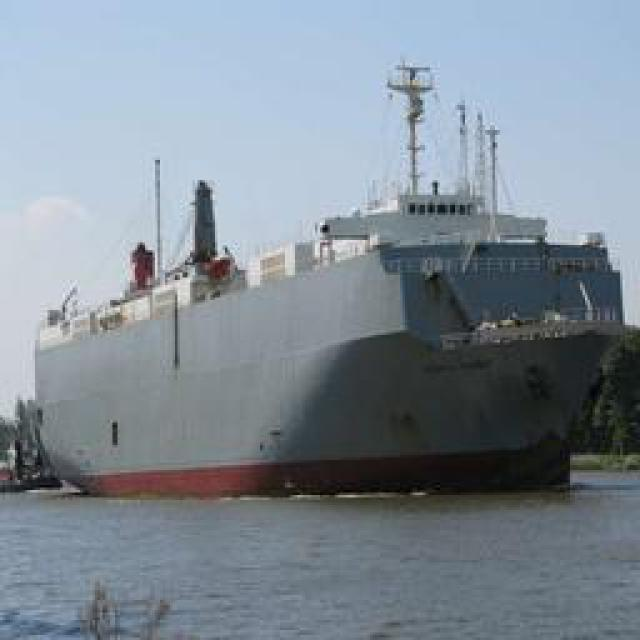Ship: (25, 56, 623, 501)
